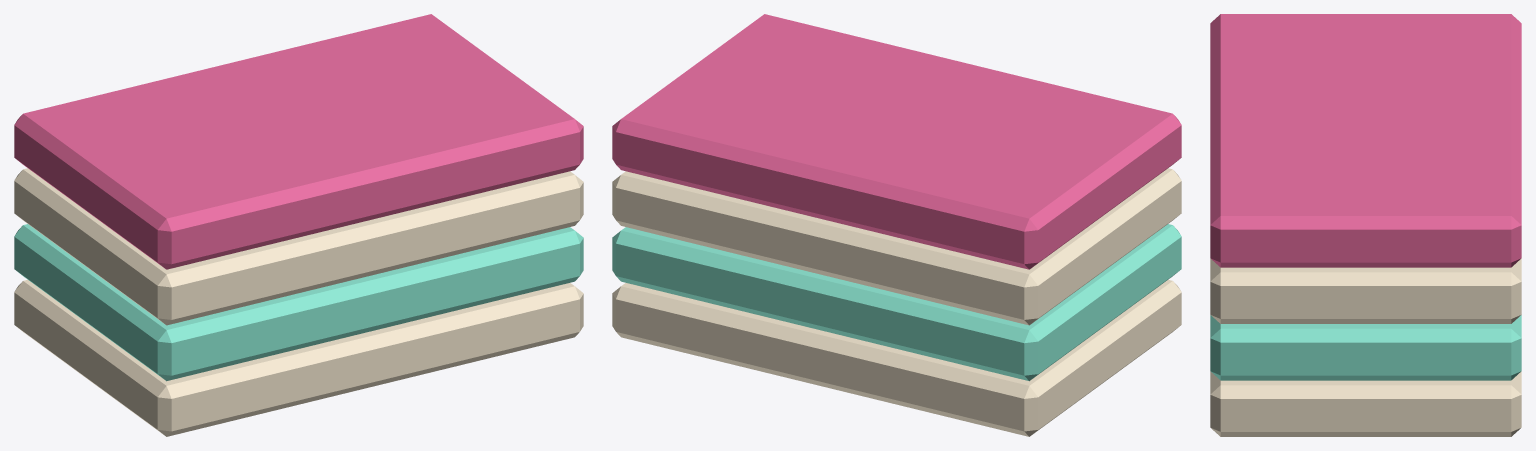
3 views of the same model, side by side, from view 1: azimuth 30°, elevation 25°; view 2: azimuth 150°, elevation 25°; view 3: azimuth 270°, elevation 25° (orthographic).
Visible parts, largest first — view 1: towels3, towels0, towels1, towels2; view 2: towels3, towels0, towels1, towels2; view 3: towels3, towels0, towels1, towels2.
Part boxes in pixels (left/top/right/bottom): towels3: left=14, top=14, right=583, bottom=269; towels0: left=14, top=279, right=583, bottom=436; towels1: left=14, top=224, right=583, bottom=381; towels2: left=14, top=168, right=583, bottom=325; towels3: left=612, top=14, right=1181, bottom=269; towels0: left=612, top=279, right=1181, bottom=436; towels1: left=612, top=224, right=1181, bottom=381; towels2: left=612, top=168, right=1181, bottom=325; towels3: left=1210, top=14, right=1521, bottom=267; towels0: left=1210, top=371, right=1521, bottom=436; towels1: left=1210, top=315, right=1521, bottom=380; towels2: left=1210, top=258, right=1521, bottom=323.
Bounding box in the file's own units: 0.48 × 0.235 × 0.3.
1 material, 1 textured.
